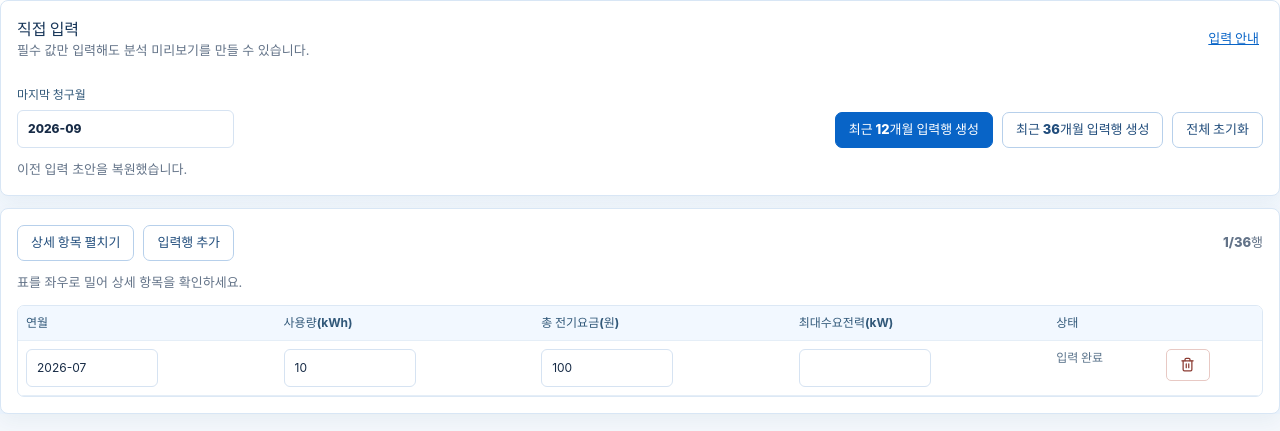
ManualBillInput › keeps the newer stored draft and reports a revision-safe write conflict
Replace the text in the field named "2026-07 사용량(kWh)" with "30" at (350, 368), box [284,348,416,386]
Wait 300 ms
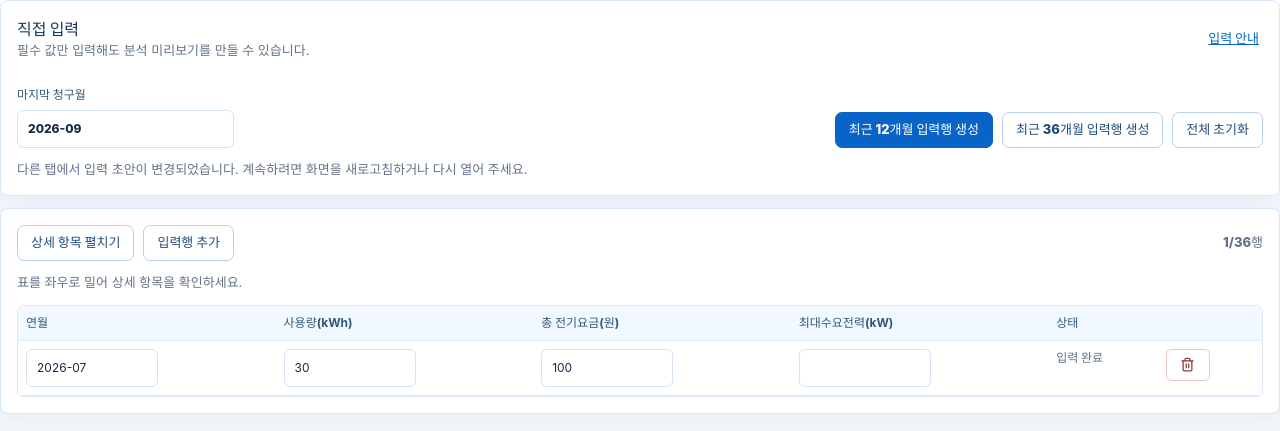
Expected: the text "다른 탭에서 입력 초안이 변경되었습니다. 계속하려면 화면을 새로고침하거나 다시 열어 주세요." is shown, [17,160,528,176]
